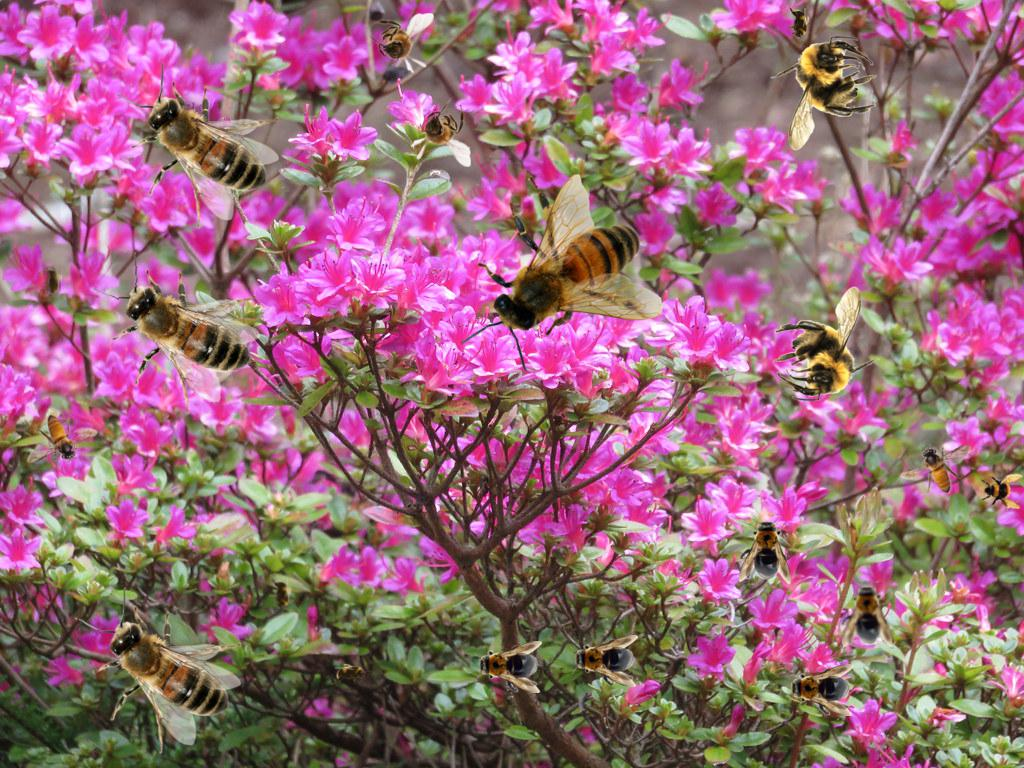Bee: (460, 174, 664, 373), (89, 239, 268, 423), (79, 587, 241, 754), (117, 62, 279, 229), (770, 36, 877, 151), (773, 286, 880, 401), (410, 97, 471, 167), (364, 13, 434, 74), (838, 579, 894, 651), (900, 444, 971, 494), (27, 414, 98, 464), (570, 635, 638, 687), (474, 641, 542, 693), (786, 664, 854, 716), (739, 516, 791, 584), (979, 467, 1023, 511), (41, 262, 63, 302), (788, 4, 810, 44), (270, 575, 292, 615), (331, 663, 371, 685)
